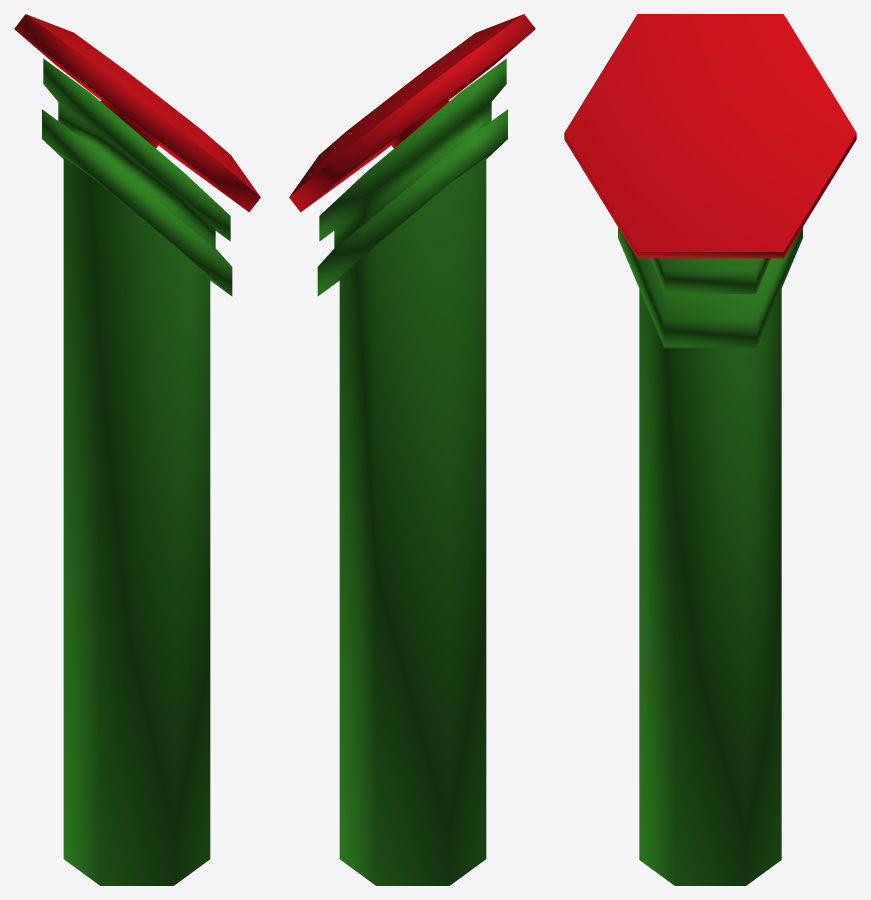
File: button2.dae
The picture shows the model from 3 angles, left to right: view 1: azimuth 30°, elevation 25°; view 2: azimuth 150°, elevation 25°; view 3: azimuth 270°, elevation 25°; orthographic projection. The views are drawn at different scales.
Visible parts, largest first — view 1: ButtonStand, button; view 2: ButtonStand, button; view 3: ButtonStand, button.
Part boxes in pixels (box(x1,y1,x2,y2)): ButtonStand: box(42, 58, 232, 885); button: box(14, 14, 260, 212); ButtonStand: box(317, 58, 507, 885); button: box(289, 14, 535, 212); ButtonStand: box(618, 227, 802, 885); button: box(564, 14, 856, 258).
Size of the model in its own units: 1.35 by 2.05 by 6.28.
